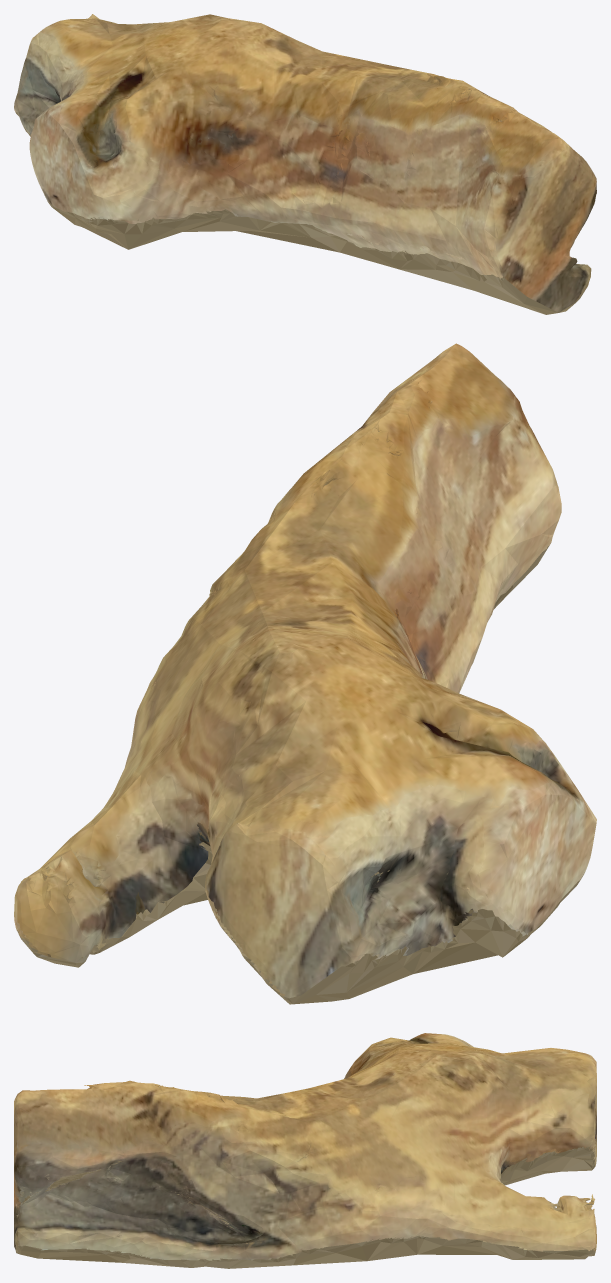
The model's file is mars3.glb.
3 renders of one model, top to bottom at view 1: azimuth 30°, elevation 25°; view 2: azimuth 150°, elevation 25°; view 3: azimuth 270°, elevation 25°, orthographic. The views are drawn at different scales.
Parts seen in each view (by area): view 1: NewQlone; view 2: NewQlone; view 3: NewQlone.
Boxes of the visible parts, x1=… form: NewQlone: x1=14, y1=14, x2=596, y2=314; NewQlone: x1=14, y1=343, x2=596, y2=1004; NewQlone: x1=14, y1=1033, x2=596, y2=1268.
Bounding box in the file's own units: 0.5839 × 0.3443 × 0.9963.
Materials: 1 (1 with a texture image).
